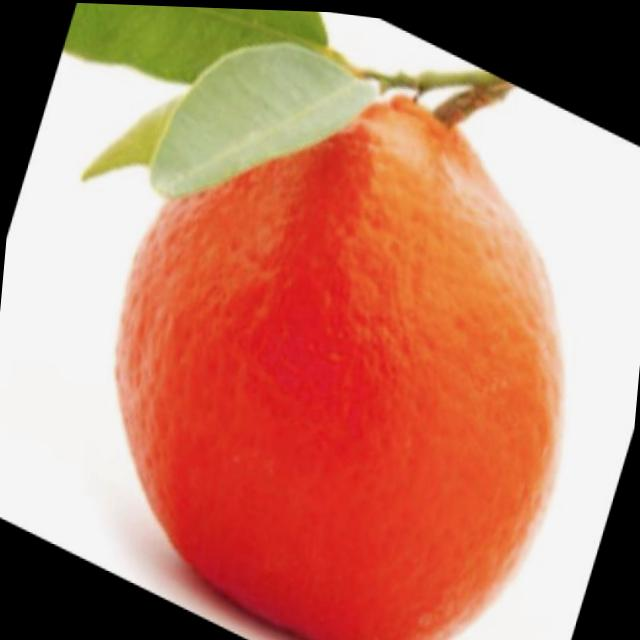Orange: (91, 52, 591, 640)
